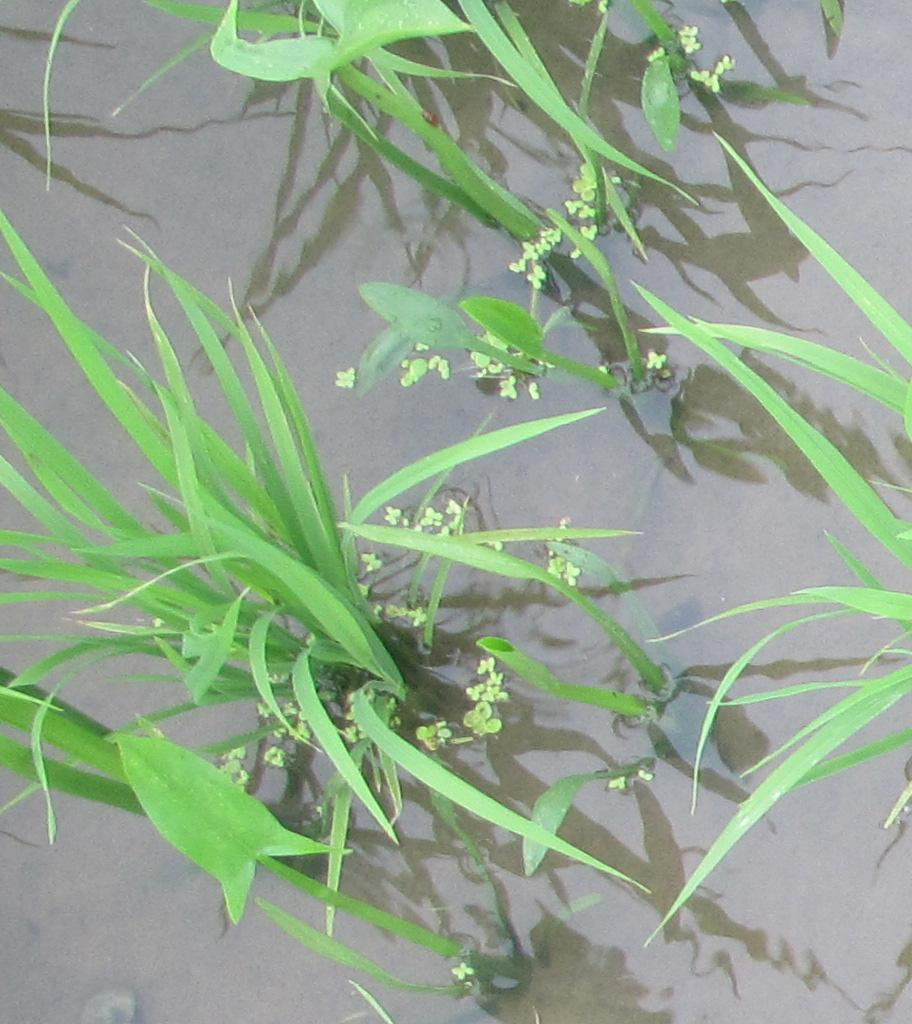Weed: (105, 728, 358, 936), (341, 267, 600, 413), (202, 3, 480, 108)
